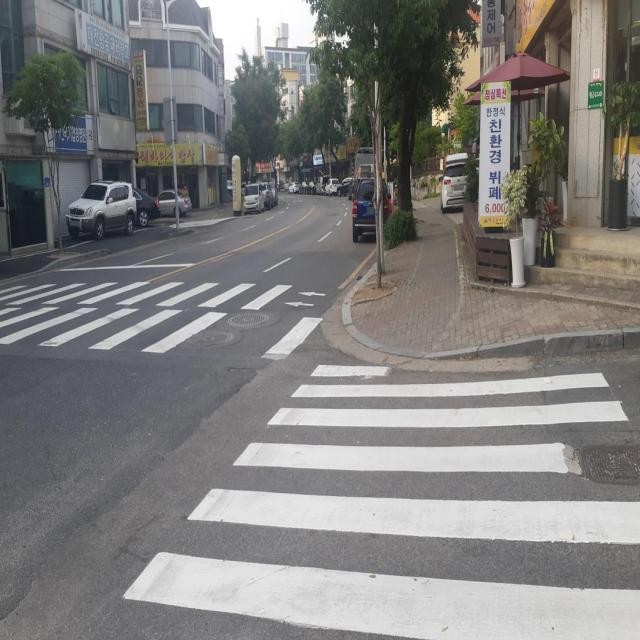횡단보도: (119, 359, 639, 640), (0, 273, 336, 354)
